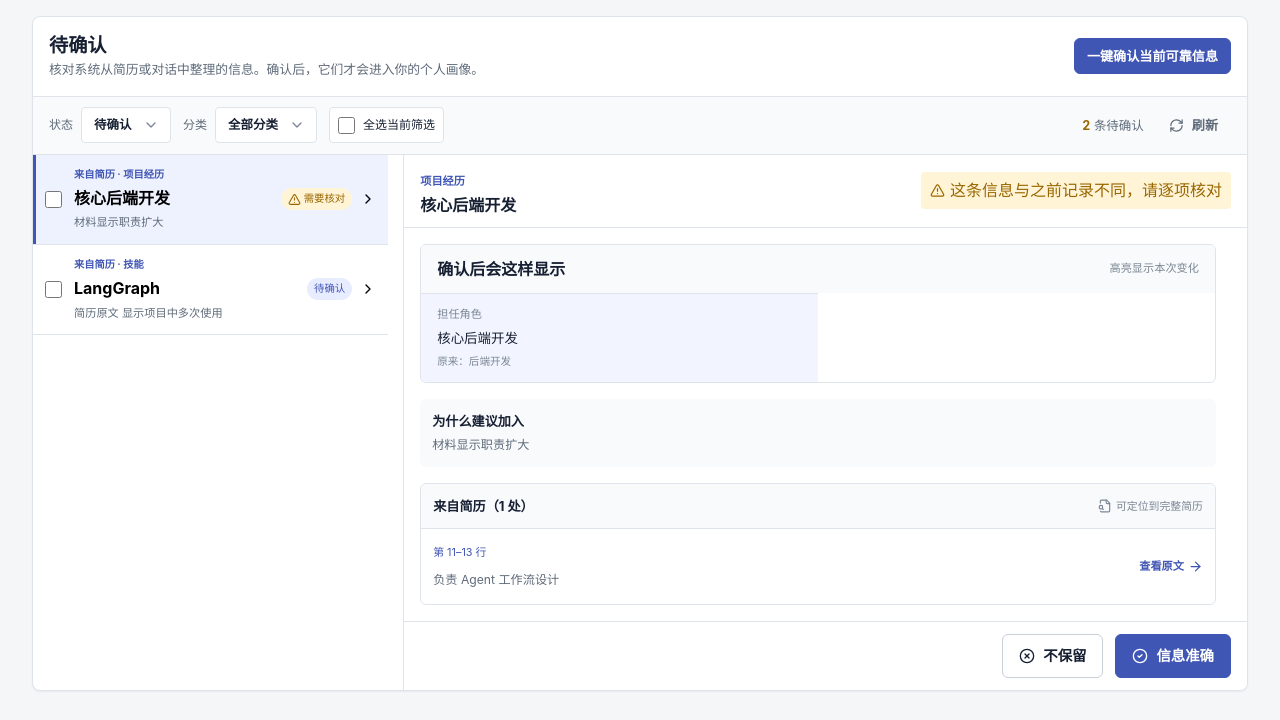
Test case: ClaimReview › shows the count for the selected status instead of a stale pending count
The width and height of the screenshot is (1280, 720).
Expected: the text "条待确认" reads "2 条待确认", [1082, 116, 1144, 135]
Select "已确认" in the dropdown named "按状态筛选" at (126, 125), box [81, 107, 171, 143]
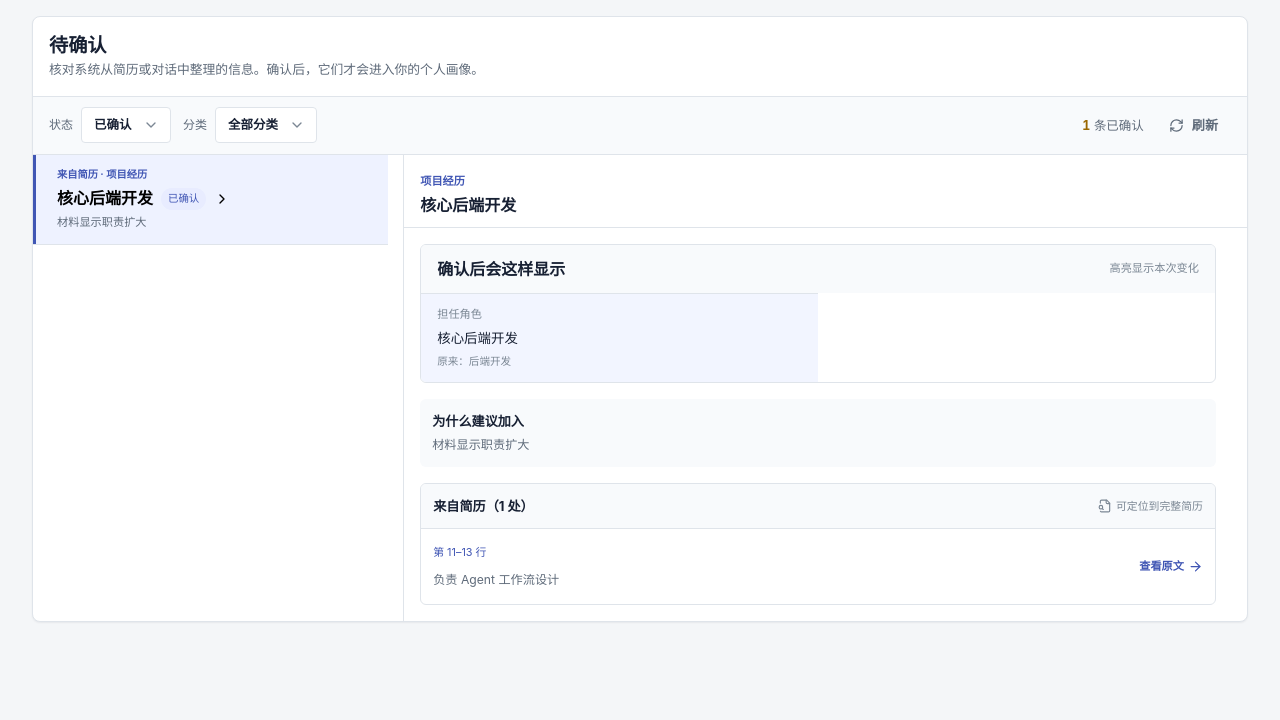
Expected: the text "条已确认" reads "1 条已确认", [1082, 116, 1144, 135]
